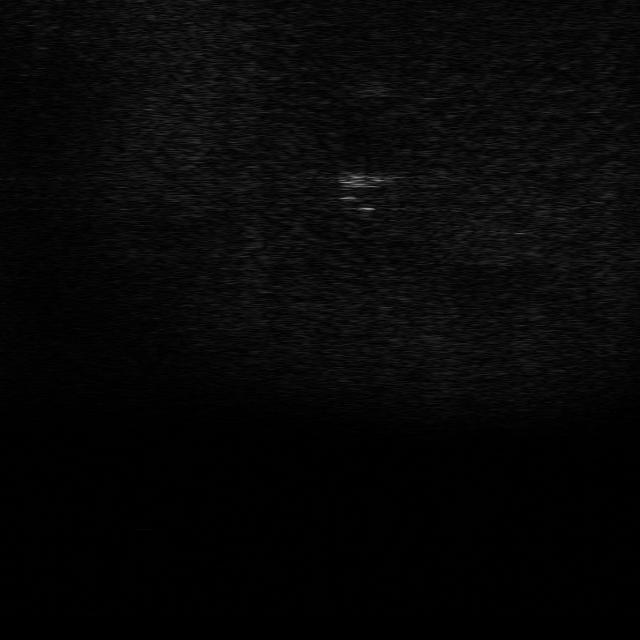plane: (331, 169, 395, 193)
